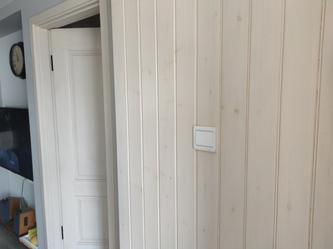switch: (195, 127, 217, 149)
